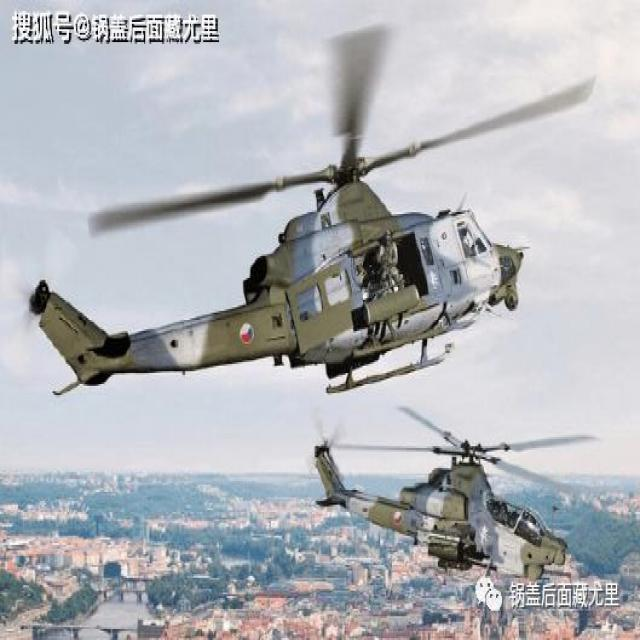MIL_HELO: (27, 18, 623, 420), (302, 400, 605, 585)
